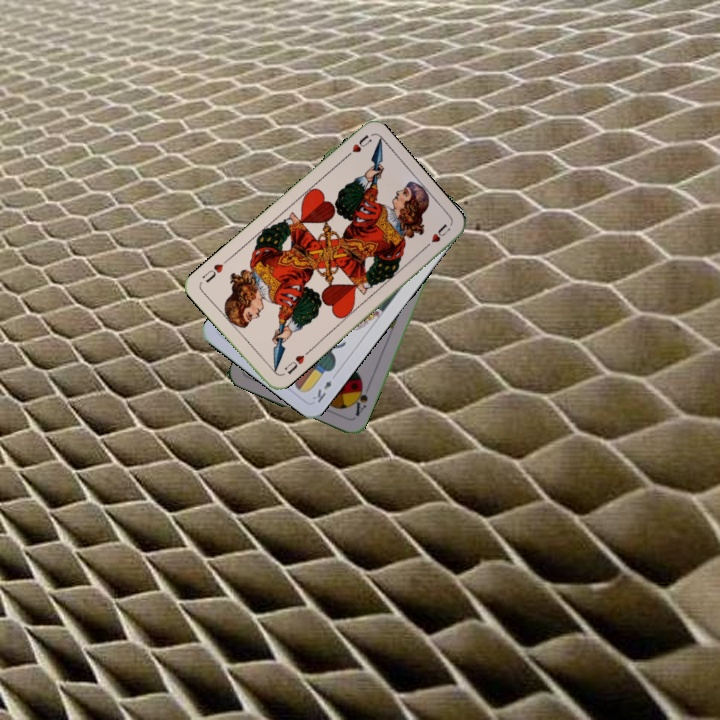EK: (308, 376, 335, 406)
HU: (339, 131, 374, 162), (280, 351, 307, 377)
SA: (349, 380, 371, 419)
